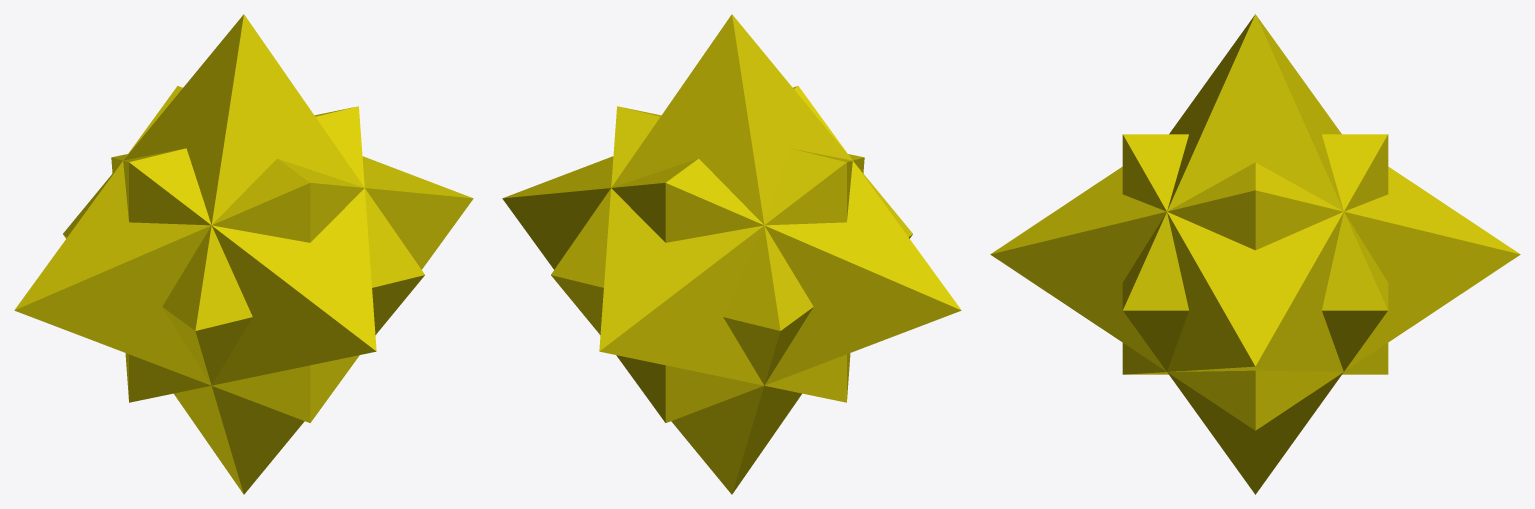
The model's file is OPBullet.obj.
The picture shows the model from 3 angles, left to right: view 1: azimuth 30°, elevation 25°; view 2: azimuth 150°, elevation 25°; view 3: azimuth 270°, elevation 25°; orthographic projection.
Parts seen in each view (by area): view 1: OPBullet; view 2: OPBullet; view 3: OPBullet.
Boxes of the visible parts, x1,y1,x2,y2 form: OPBullet: (14,14,473,494); OPBullet: (502,14,961,494); OPBullet: (990,14,1520,494).
Bounding box in the file's own units: 4.32 × 4.32 × 4.32.
